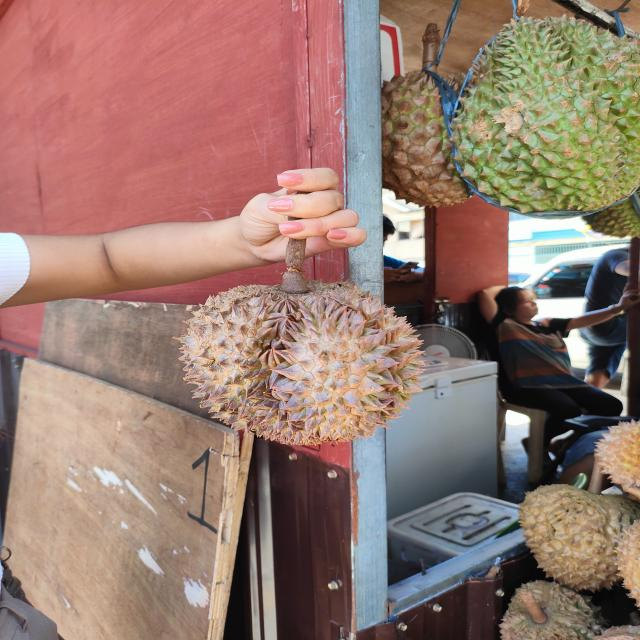mature: (174, 280, 426, 446)
